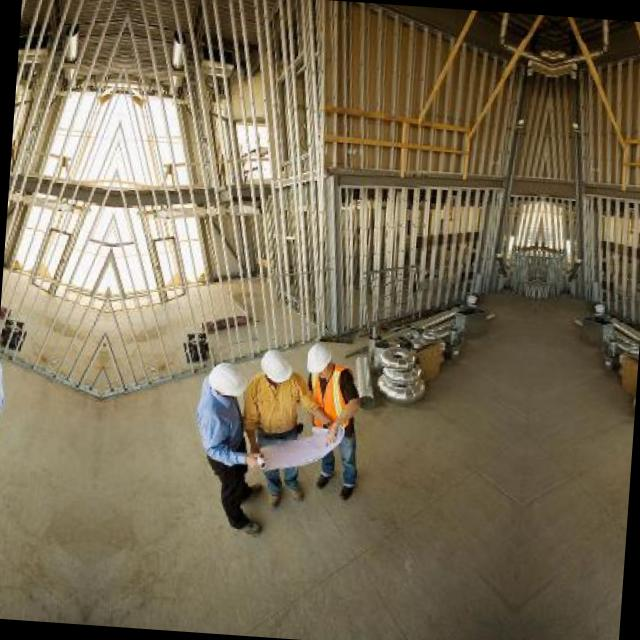helmet: (202, 361, 250, 398), (254, 346, 296, 386), (304, 343, 330, 377)
